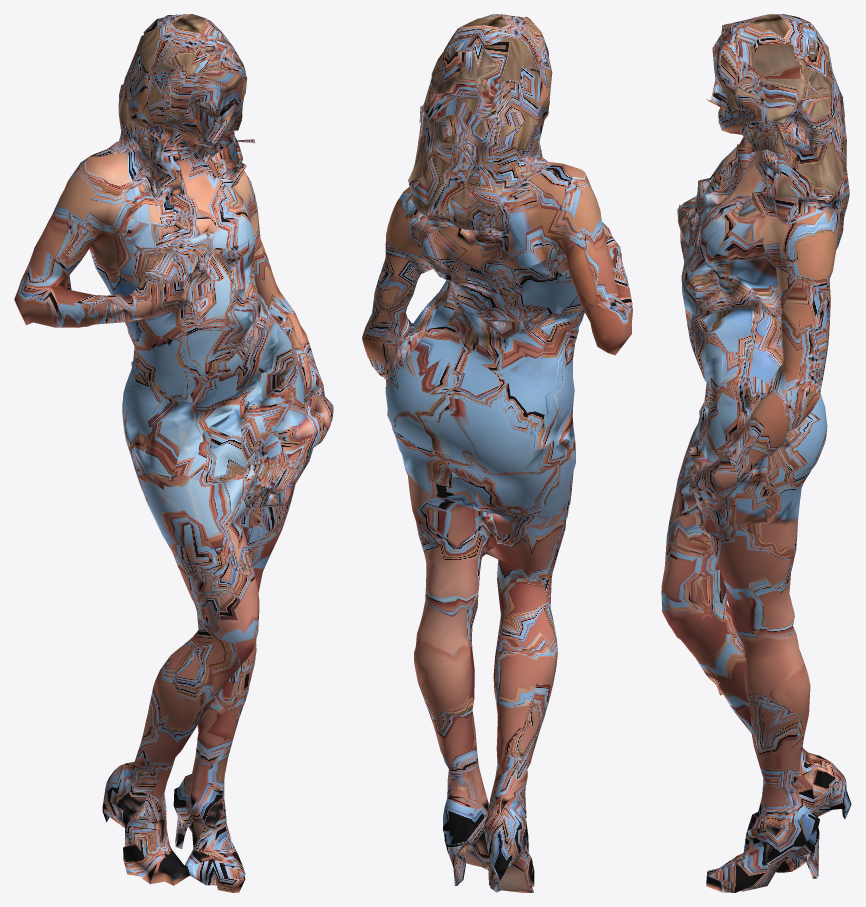
The model's file is bluevinyl.glb.
3 views of the same model, side by side, from view 1: azimuth 30°, elevation 25°; view 2: azimuth 150°, elevation 25°; view 3: azimuth 270°, elevation 25° (orthographic).
Visible parts, largest first — view 1: body; view 2: body; view 3: body.
Part boxes in pixels (left/top/right/bottom): body: left=14, top=14, right=333, bottom=892; body: left=362, top=14, right=632, bottom=892; body: left=661, top=14, right=851, bottom=892.
Size of the model in its own units: 0.5956 by 1.78 by 0.3564.
1 material, 1 textured.
